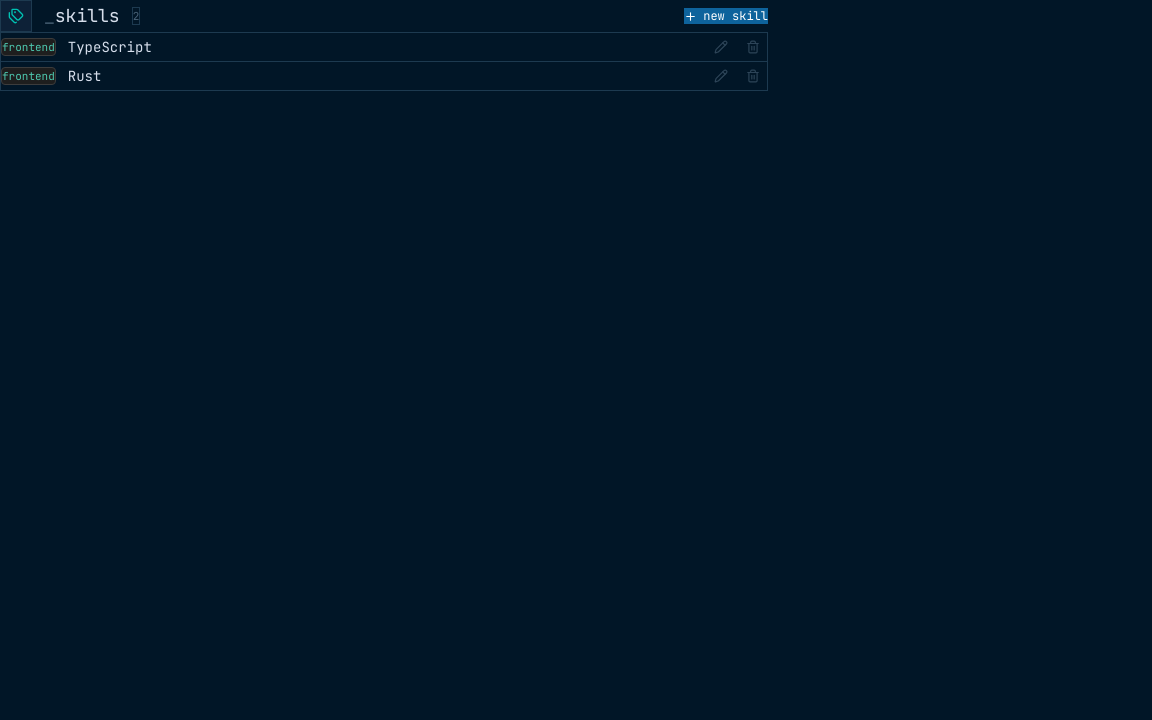
Test case: admin skills list page › asks for confirmation before deleting, and "cancel" leaves everything untouched
Expected: the text "TypeScript" is shown, [68,37,152,57]
Click the button titled "delete" in the row of "TypeScript".
click(753, 47)  # box [739,33,767,61]
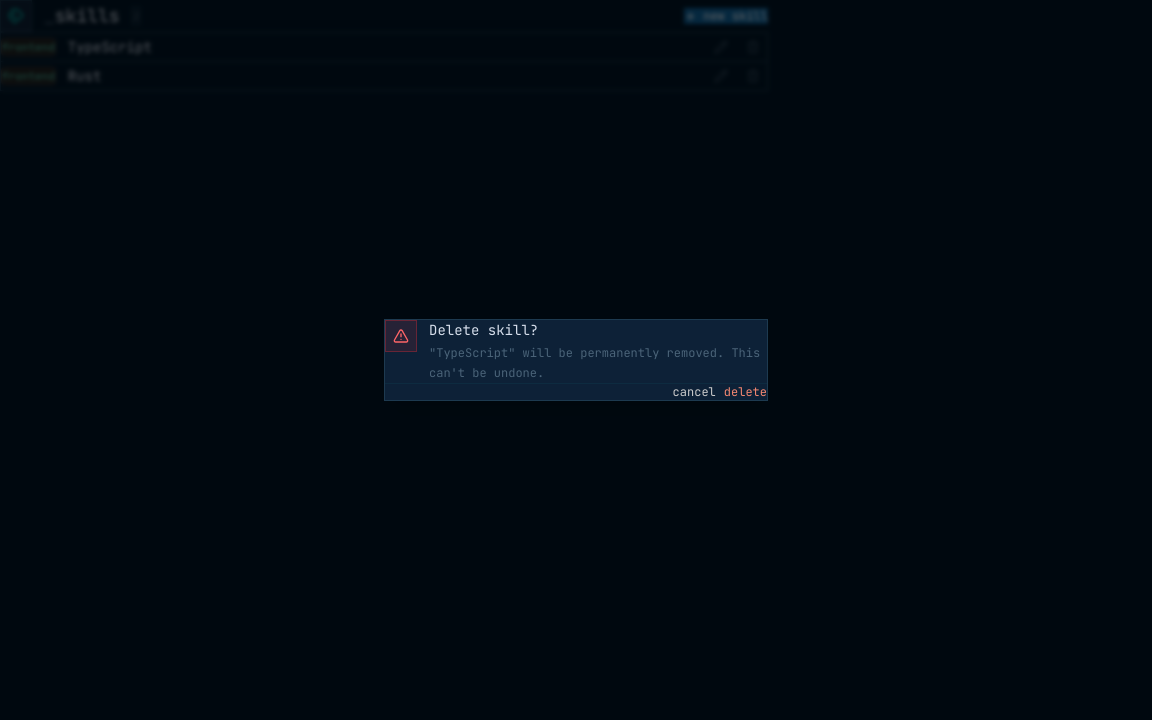
Now the heading "Delete skill?" is shown, box [429,321,538,339]
Click the button "cancel".
click(694, 392)  # box [673,384,716,400]
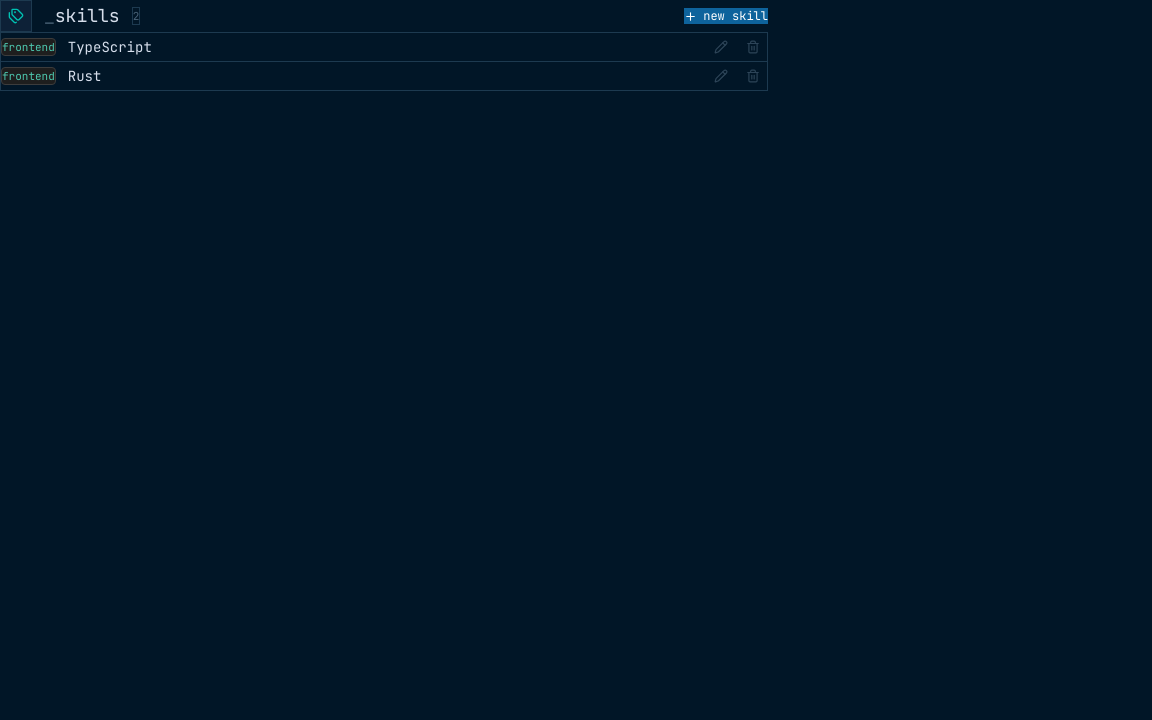
Expected: the text "TypeScript" is shown, [68,37,152,57]
Now the dialog is gone
